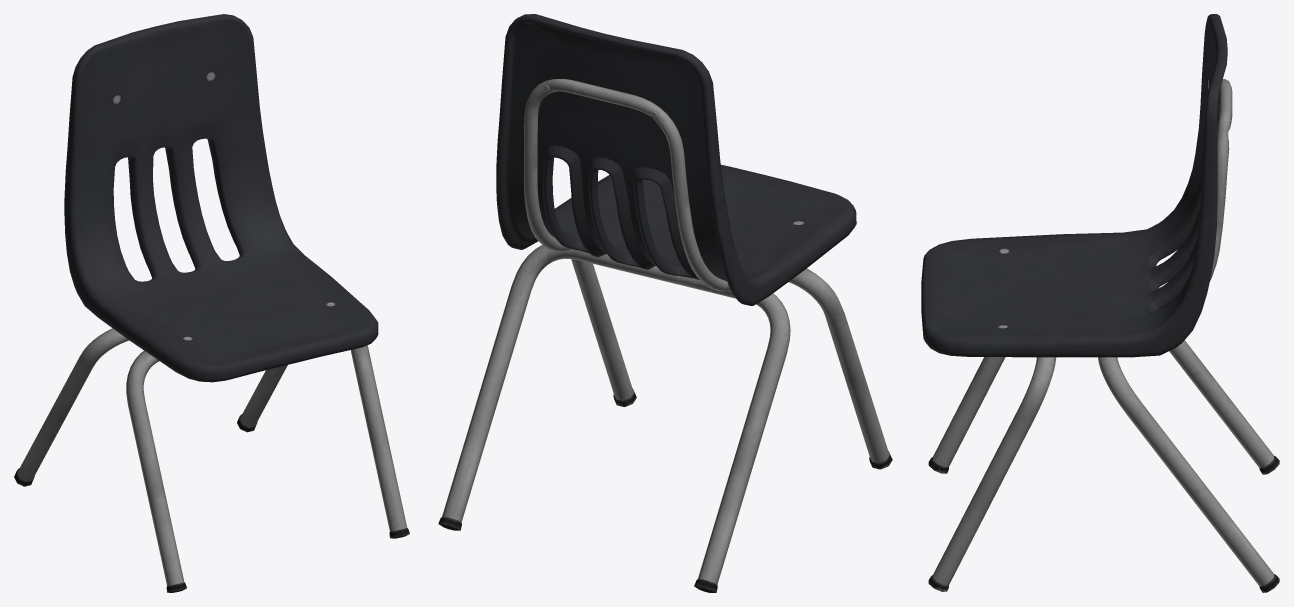
File: chair.b0029299b8.glb
3 views of the same model, side by side, from view 1: azimuth 30°, elevation 25°; view 2: azimuth 150°, elevation 25°; view 3: azimuth 270°, elevation 25° (orthographic). The views are drawn at different scales.
Parts seen in each view (by area): view 1: SchoolChair_01; view 2: SchoolChair_01; view 3: SchoolChair_01.
Part boxes in pixels (left/top/right/bottom): SchoolChair_01: left=14, top=14, right=409, bottom=592; SchoolChair_01: left=438, top=14, right=892, bottom=592; SchoolChair_01: left=921, top=14, right=1279, bottom=592.
Bounding box in the file's own units: 0.5659 × 1.01 × 0.6753.
1 material, 1 textured.
